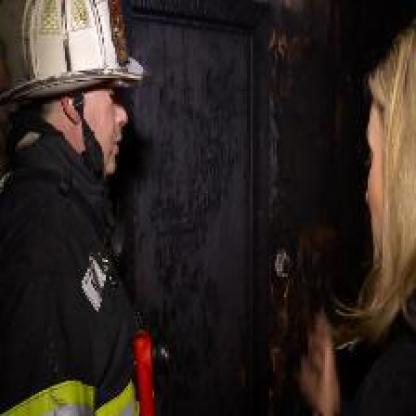other: (19, 379, 122, 409), (129, 326, 162, 412)
